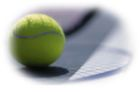tennis ball: (8, 12, 66, 70)
